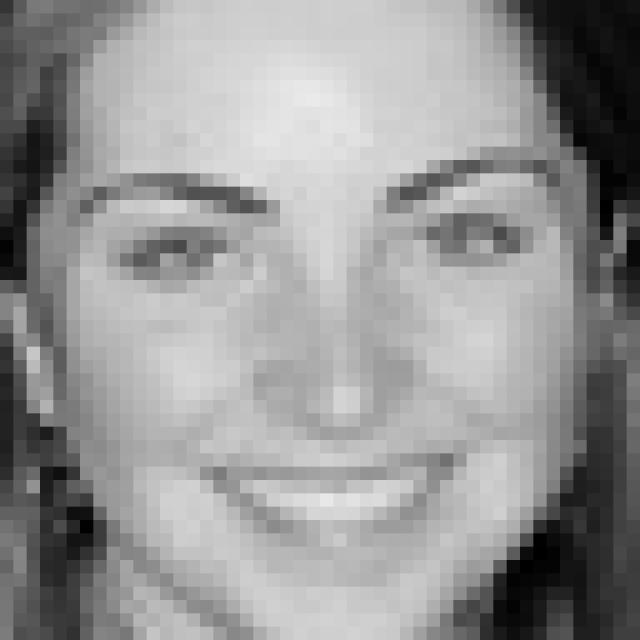happy: (59, 150, 583, 573)
